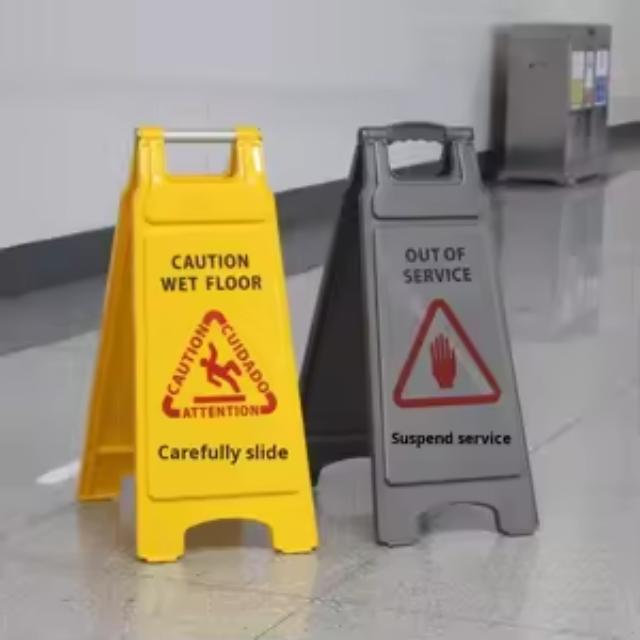slippery_floor: (76, 127, 320, 561)
